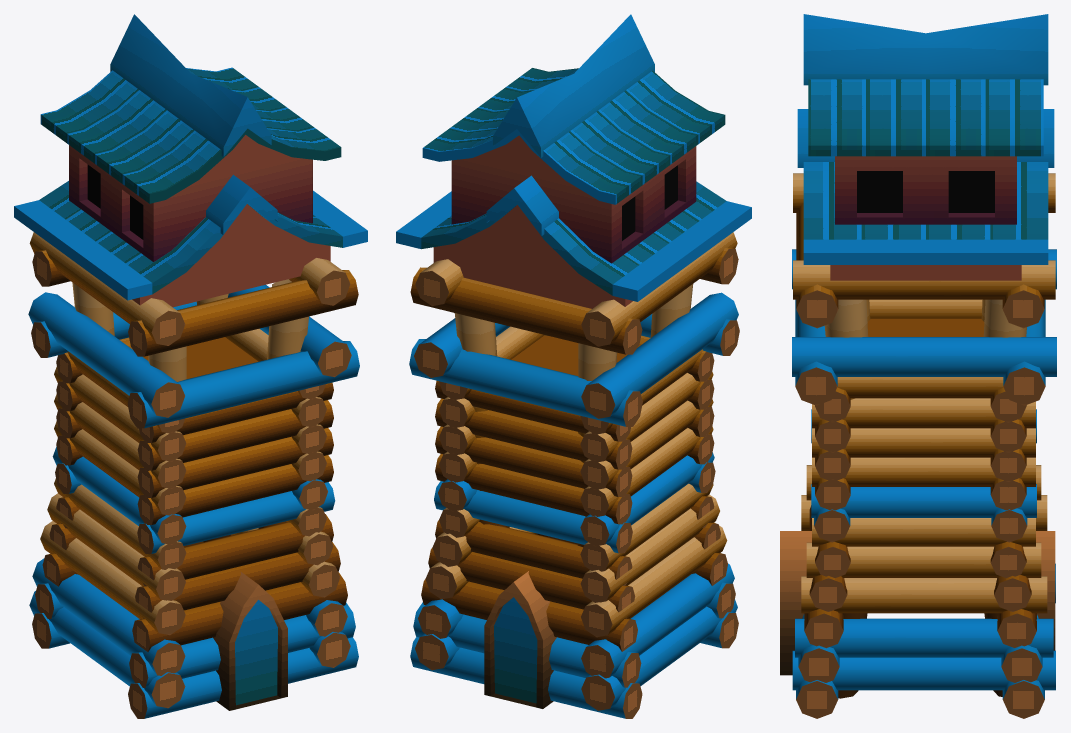
The model's file is TowerLv3Phase3.fbx.
3 renders of one model, left to right at view 1: azimuth 30°, elevation 25°; view 2: azimuth 150°, elevation 25°; view 3: azimuth 270°, elevation 25°, orthographic. The views are drawn at different scales.
Visible parts, largest first — view 1: tower_lvl3; view 2: tower_lvl3; view 3: tower_lvl3.
Boxes of the visible parts, x1=… form: tower_lvl3: x1=14, y1=14, x2=367, y2=718; tower_lvl3: x1=396, y1=14, x2=751, y2=718; tower_lvl3: x1=780, y1=14, x2=1056, y2=718.
Bounding box in the file's own units: 26.73 × 63.9 × 24.72.
